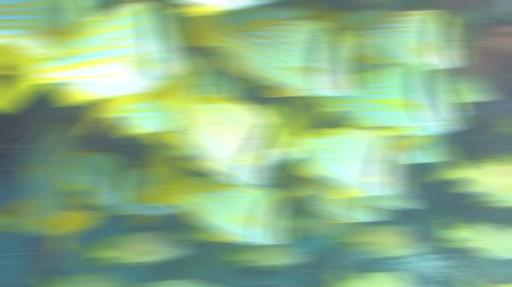Fish: (0, 0, 185, 112), (171, 15, 358, 96), (147, 150, 290, 244), (163, 74, 277, 185), (275, 101, 406, 197), (16, 123, 99, 268), (298, 63, 463, 135), (301, 5, 470, 68), (178, 176, 289, 244), (276, 164, 389, 222), (73, 168, 182, 225), (0, 0, 106, 57), (81, 97, 180, 144), (430, 146, 511, 202), (77, 231, 186, 271), (66, 150, 137, 204), (435, 217, 511, 258), (251, 104, 300, 165), (335, 225, 420, 257), (184, 56, 245, 99), (214, 7, 311, 32), (221, 243, 306, 270), (282, 210, 355, 241), (99, 201, 182, 226), (102, 201, 182, 226), (0, 207, 58, 235), (440, 74, 495, 102), (388, 136, 445, 163), (174, 0, 270, 16), (66, 0, 108, 30), (361, 187, 418, 209), (396, 118, 463, 135), (152, 136, 203, 158), (172, 225, 221, 244), (62, 273, 122, 286), (354, 273, 411, 286), (163, 279, 197, 286), (493, 126, 511, 135), (492, 156, 511, 164), (465, 279, 473, 286)
